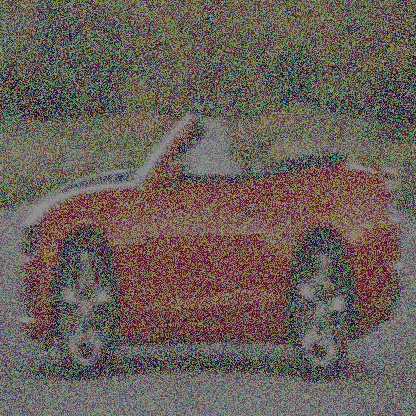Vehicle: (19, 109, 402, 378)
